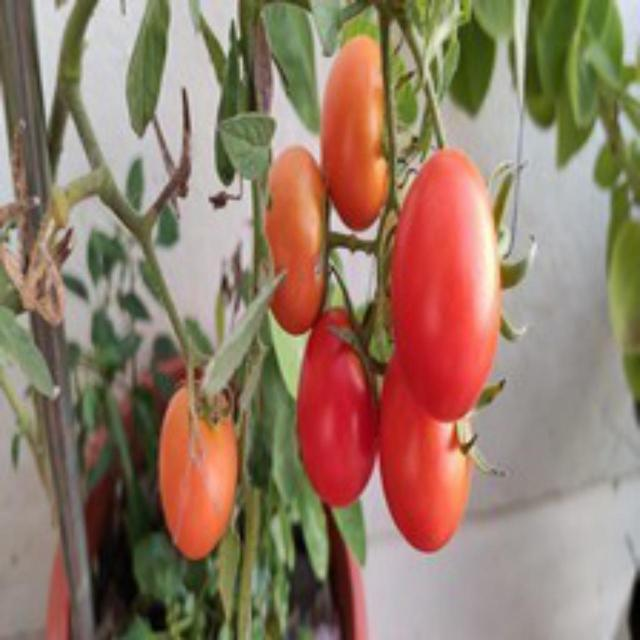tomato: (384, 127, 526, 419), (280, 314, 386, 508)
